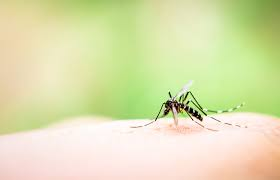mosquito: (137, 78, 263, 144)
